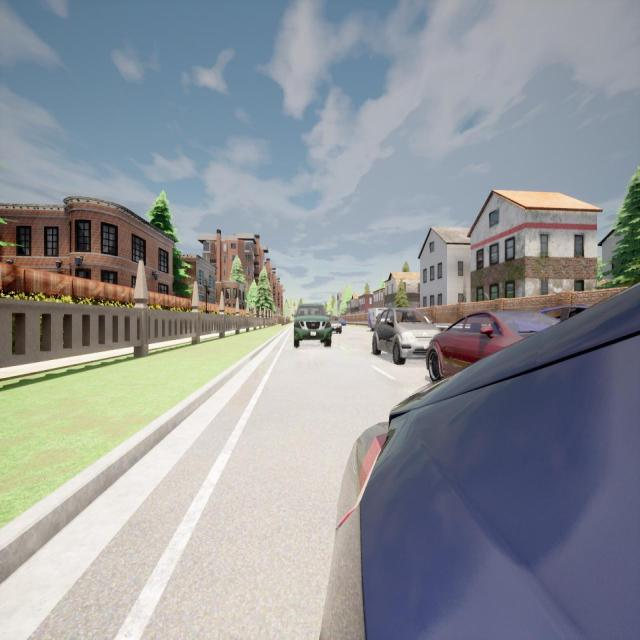Vehicle: (320, 284, 640, 638), (426, 311, 562, 386), (372, 307, 438, 363), (292, 303, 331, 348), (541, 301, 591, 321), (368, 308, 390, 331), (330, 318, 342, 334), (338, 318, 347, 326)
